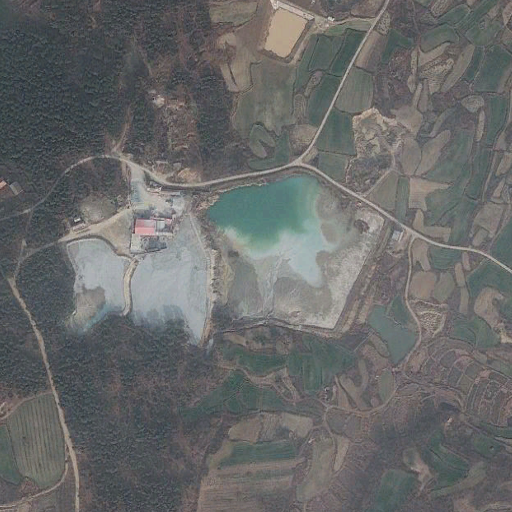tp: (60, 175, 390, 347)
